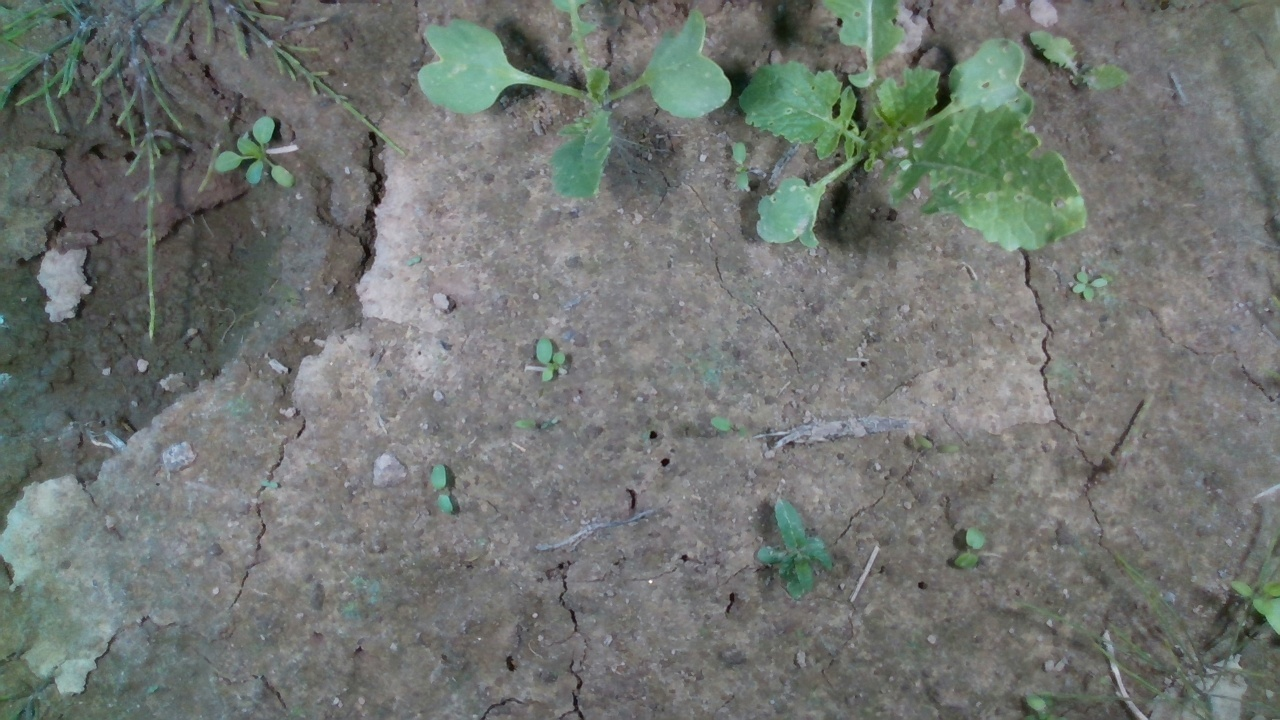weed: (952, 525, 986, 572), (1070, 268, 1110, 305), (427, 462, 454, 514)
